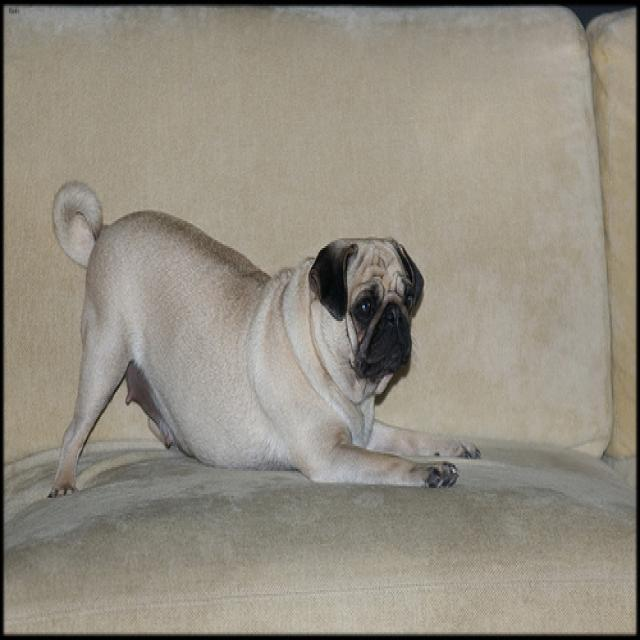dog-pug: (41, 179, 489, 505)
